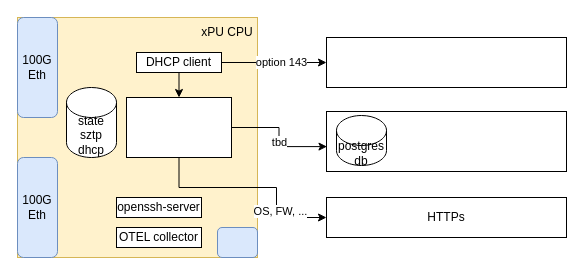
Image size: 584x275. Some labels were removed from this diagram. The box of each missing label's shape, as (x1, y1, x2, y2) in pixels:
DHCP: (326, 36, 566, 88)
Mgmt Eth: (216, 226, 258, 258)
sZTP agent/client: (126, 96, 232, 158)
sZTP bootsrap server: (326, 110, 566, 172)
